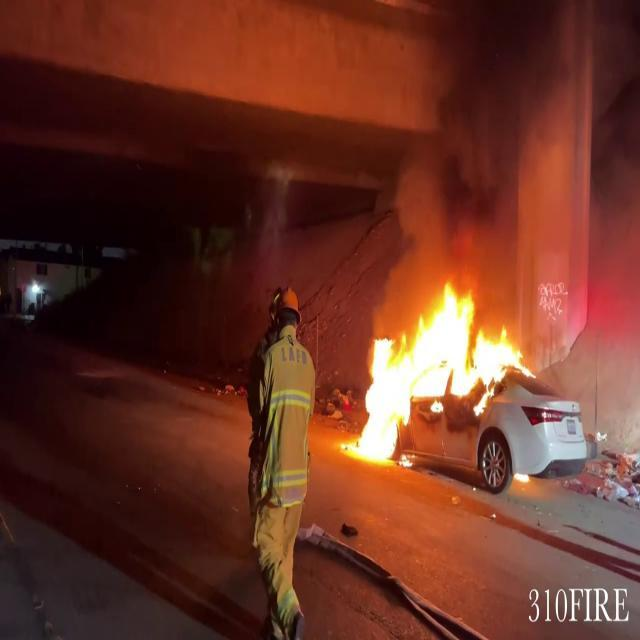Fire: (344, 273, 534, 467)
Smoke: (372, 0, 611, 297)
